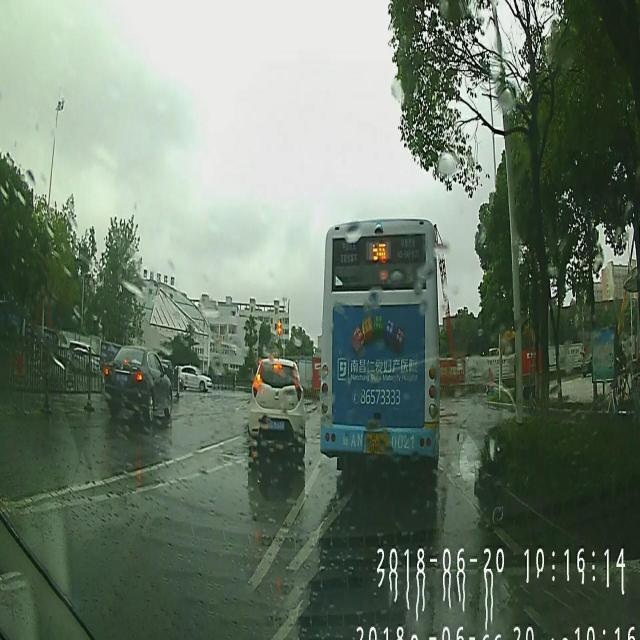car: (246, 357, 306, 465), (104, 342, 174, 422), (177, 361, 212, 392)
